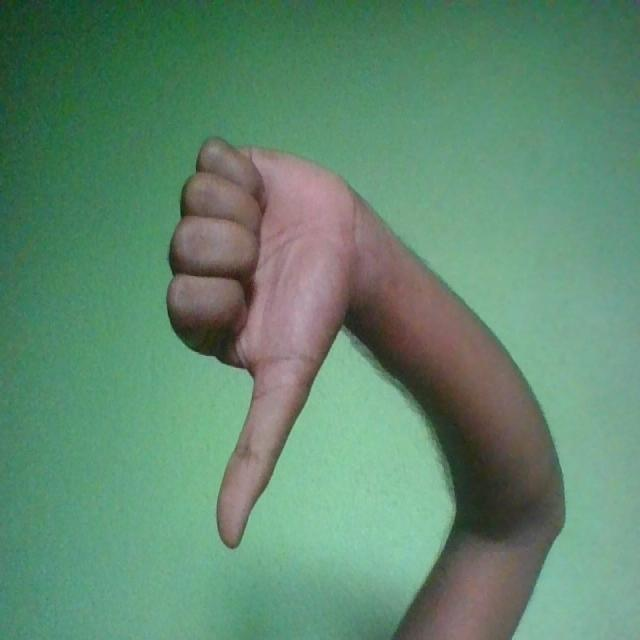Dislike: (167, 136, 360, 548)
